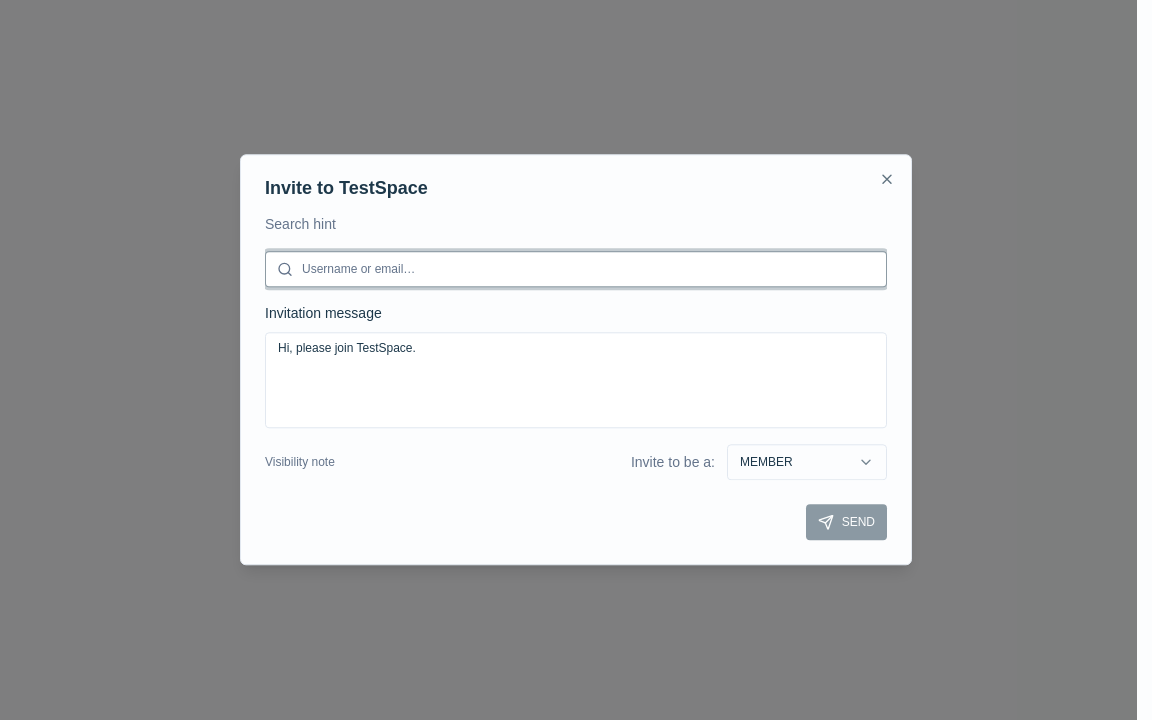
it: InviteMembersDialog › organization kind: role selector offers only Member (locked) and Lead
Click the button with aria-label "Choose roles" at x=807, y=463, box [727,445,887,481]
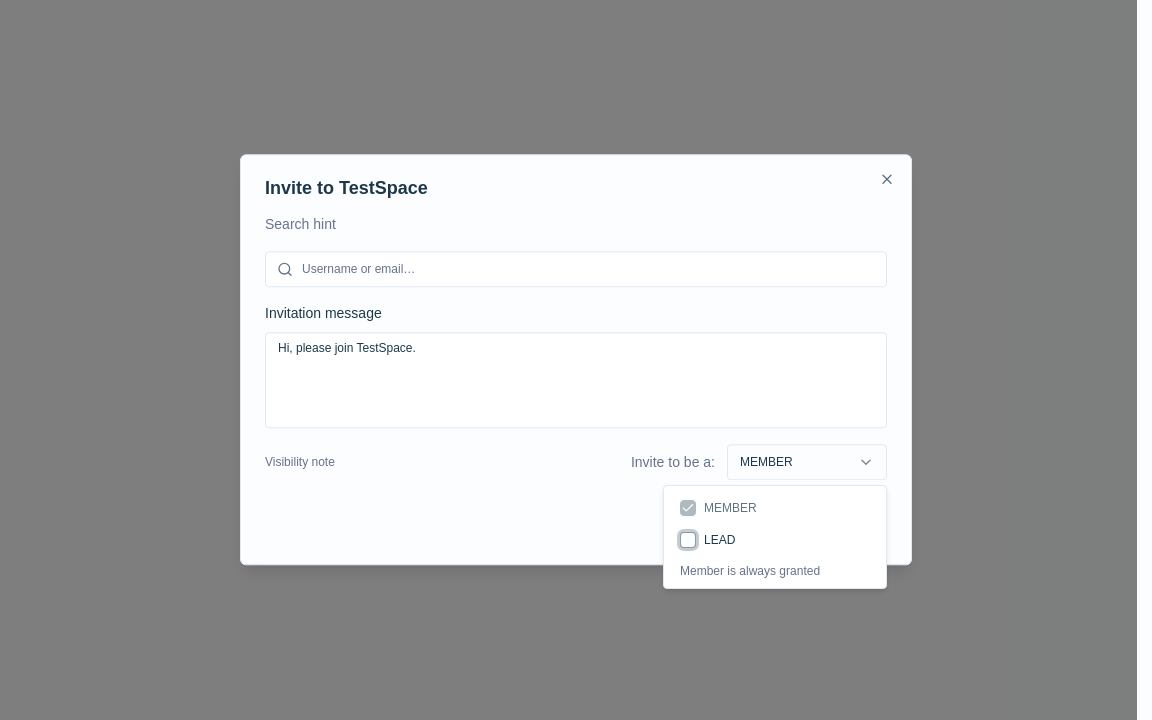
expect the text "Lead" is shown: met, box [704,532,735,548]
